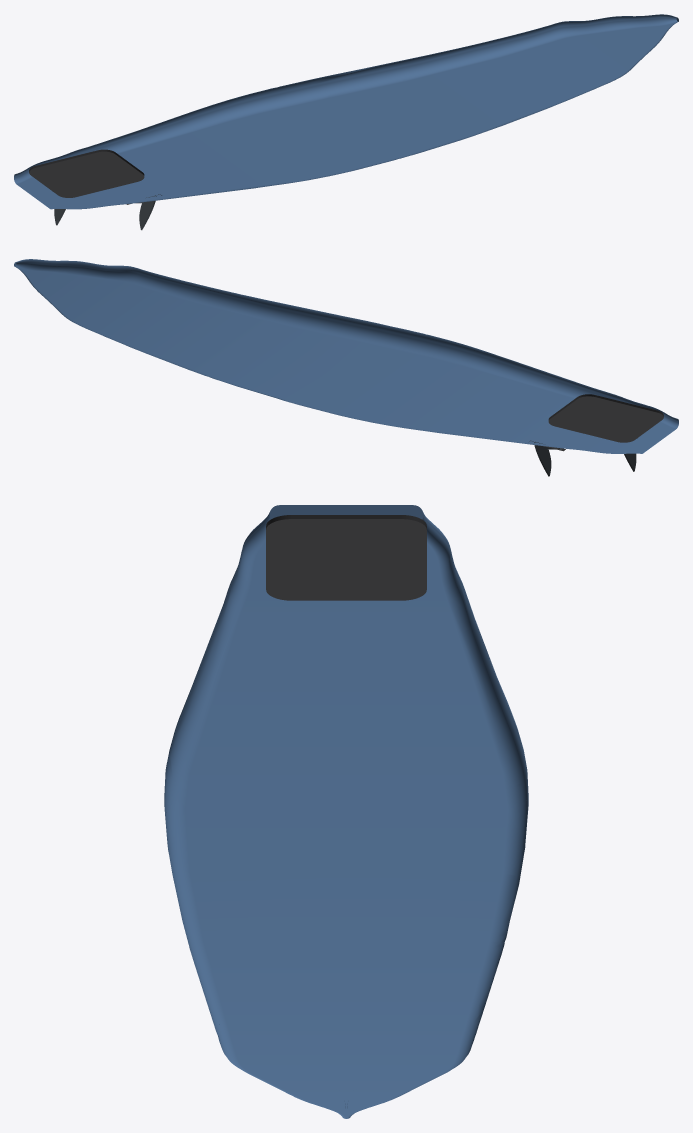
Rendered from v1_enclosure.glb.
3 views of the same model, one above another, from view 1: azimuth 30°, elevation 25°; view 2: azimuth 150°, elevation 25°; view 3: azimuth 270°, elevation 25° (orthographic). The views are drawn at different scales.
Parts seen in each view (by area): view 1: body.1, rubber.4; view 2: body.1, rubber.4, fin.2; view 3: body.1, rubber.4.
Boxes of the visible parts, box(x1,y1,x2,y2) form: body.1: box(14, 14, 678, 209); rubber.4: box(29, 149, 144, 197); body.1: box(14, 259, 678, 453); rubber.4: box(548, 394, 663, 442); fin.2: box(534, 442, 562, 476); body.1: box(164, 505, 528, 1118); rubber.4: box(266, 515, 426, 600).
Bounding box in the file's own units: 2.29 × 0.21 × 0.5597.
